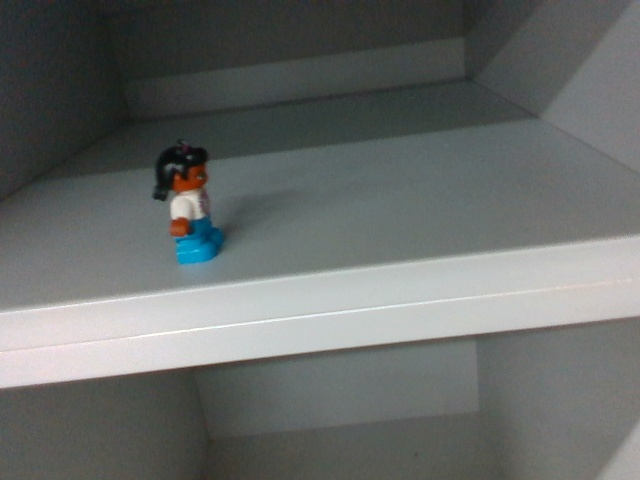people: (150, 143, 230, 267)
